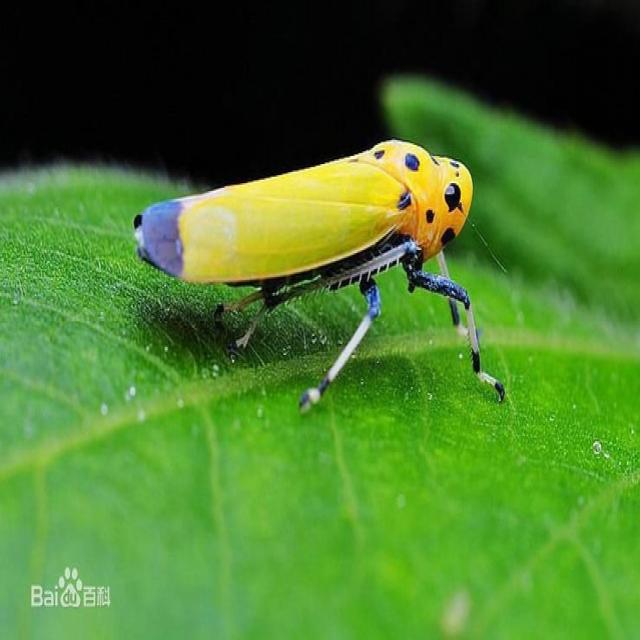Yechan: (124, 128, 504, 380)
